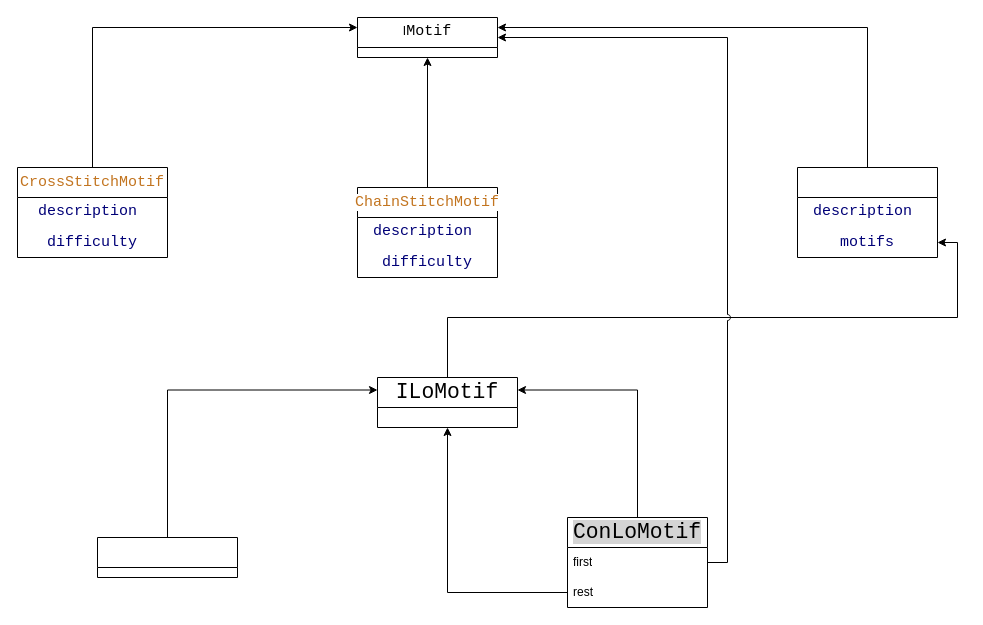
Some shapes in this 983 by 625 pixel diagram are drawn without their labels. The shapes that lost their labels are listed below. From the top down, each one's box as (x1, y1, x2, y2) in pixels, then its label:
(796, 166, 938, 258): GroupMotif
(96, 536, 238, 578): MtLoMotif
